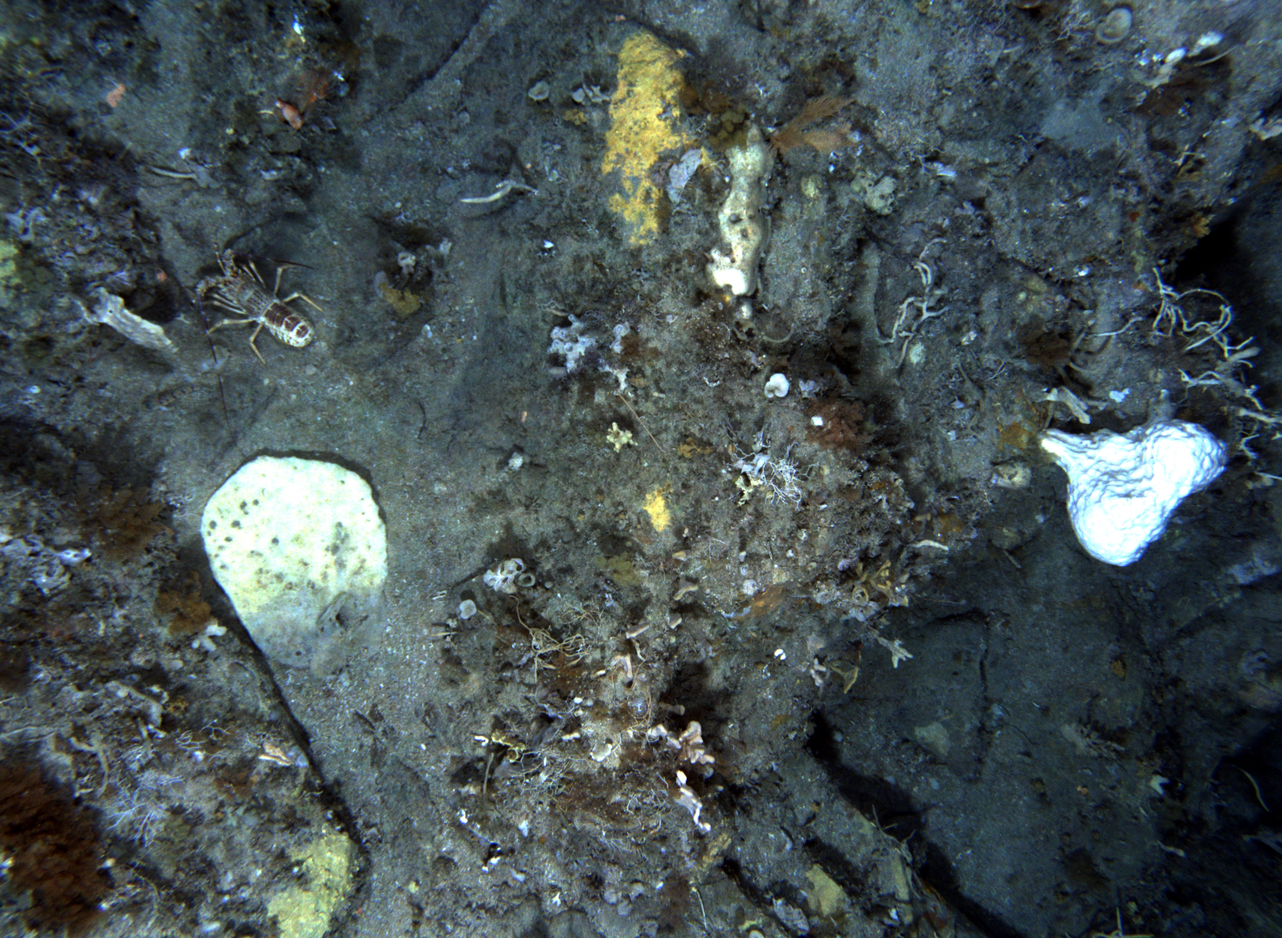Brachionichthyidae: (270, 94, 307, 132)
